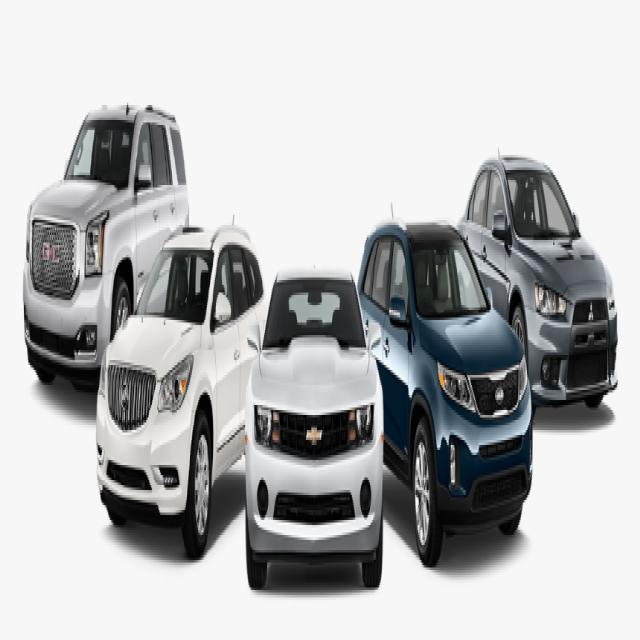car: (358, 192, 535, 573), (95, 232, 268, 543), (15, 94, 193, 388), (462, 134, 622, 434), (243, 268, 385, 605)
